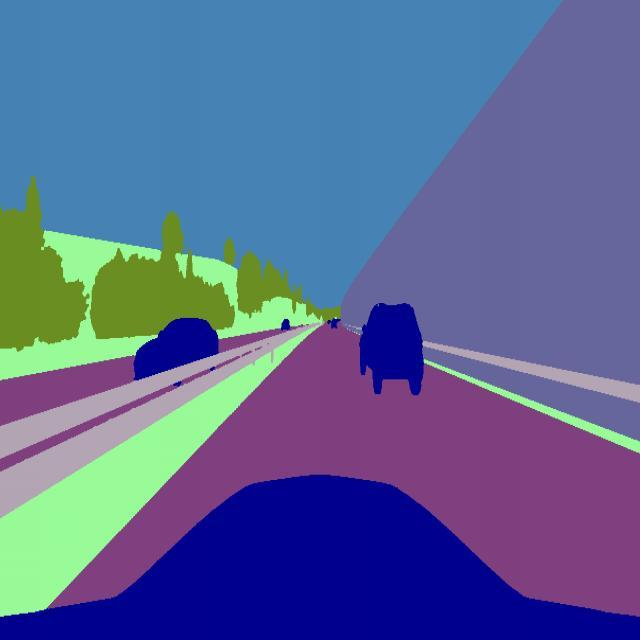safe: (357, 300, 428, 400), (132, 314, 220, 382), (278, 312, 292, 333), (329, 317, 336, 330)
